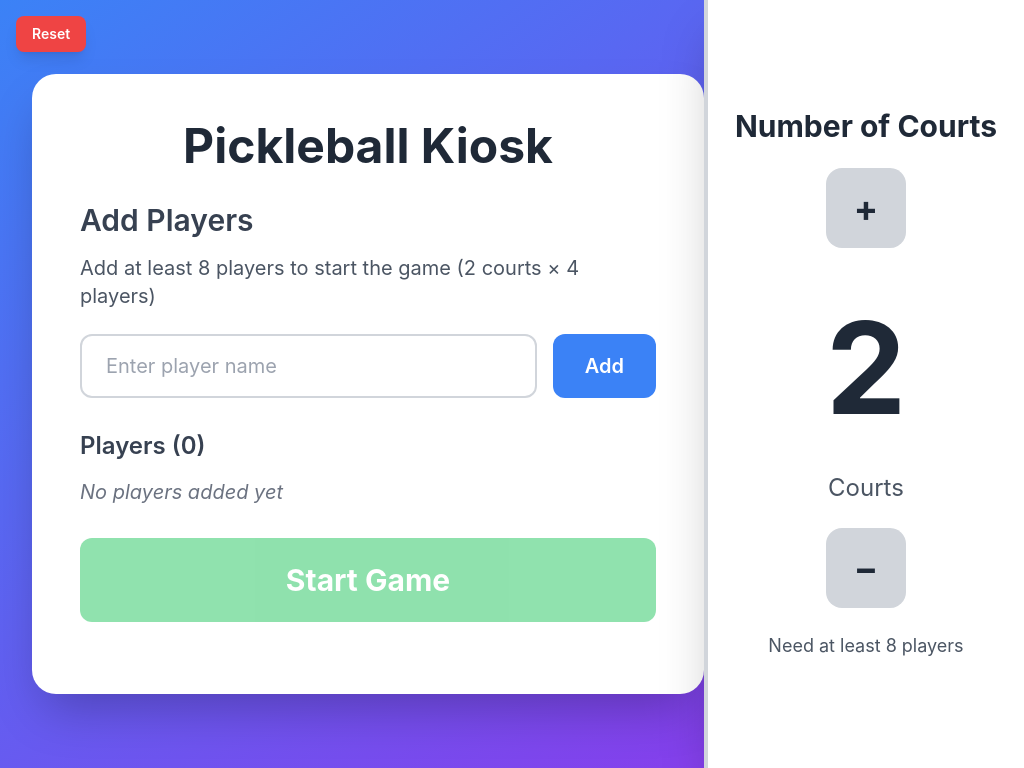
Test: PlayerSetup › Adding Players › shows error for empty player name
Click the button "Add".
click(604, 366)  # box [553,334,656,398]
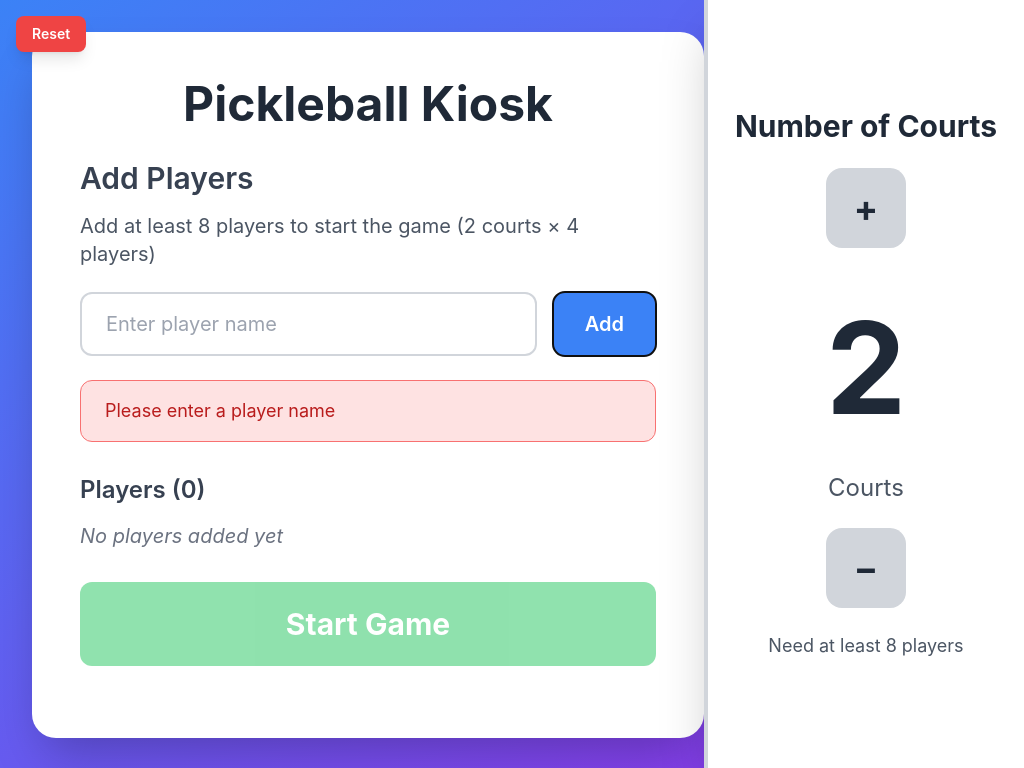
Now the text "Please enter a player name" is shown, box [80,380,656,442]
